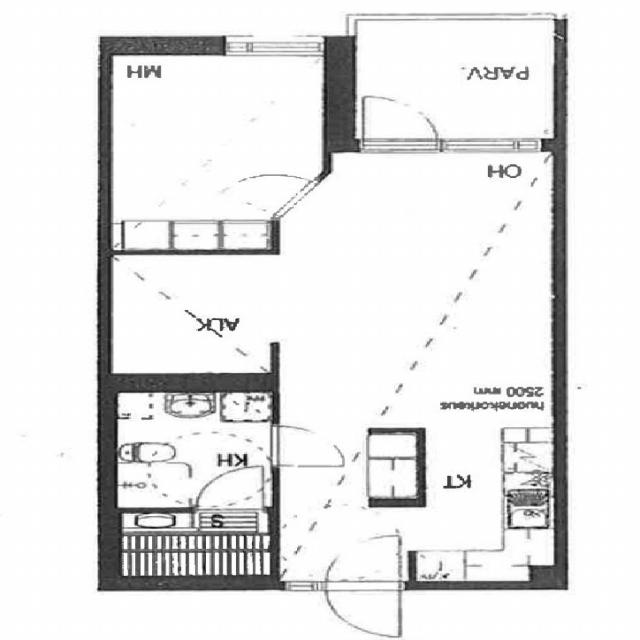door: (219, 160, 318, 217), (362, 94, 437, 152), (327, 581, 400, 633), (327, 538, 400, 589), (197, 468, 263, 513), (271, 426, 345, 466)
